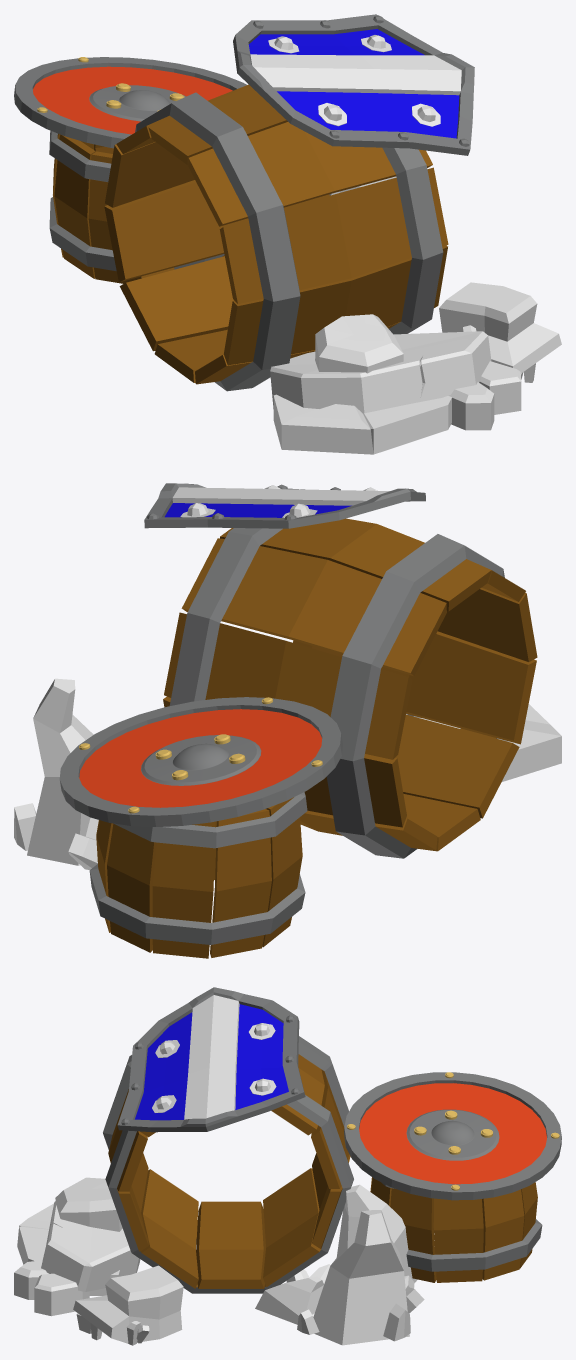
The model's file is GoblinHouse1.fbx.
3 renders of one model, top to bottom at view 1: azimuth 30°, elevation 25°; view 2: azimuth 150°, elevation 25°; view 3: azimuth 270°, elevation 25°, orthographic. The views are drawn at different scales.
Visible parts, largest first — view 1: House, Rock Type1 01 mesh, shield3.001, shield.001, House.001, Rock Type6 02 mesh; view 2: House, shield.001, House.001, shield3.001, Rock Type3 02 mesh, Rock Type1 01 mesh; view 3: House, shield.001, shield3.001, Rock Type3 02 mesh, Rock Type1 01 mesh, House.001, Rock Type6 02 mesh.
Part boxes in pixels (box(x1,y1,x2,y2)): House: box(104, 84, 448, 391); Rock Type1 01 mesh: box(270, 314, 521, 454); shield3.001: box(233, 14, 474, 155); shield.001: box(14, 57, 246, 148); House.001: box(49, 130, 224, 283); Rock Type6 02 mesh: box(439, 282, 561, 382); House: box(163, 518, 537, 858); shield.001: box(59, 697, 342, 826); House.001: box(89, 792, 307, 958); shield3.001: box(144, 483, 425, 528); Rock Type3 02 mesh: box(14, 678, 157, 870); Rock Type1 01 mesh: box(406, 704, 561, 781); House: box(103, 1036, 353, 1293); shield.001: box(344, 1072, 561, 1200); shield3.001: box(117, 987, 305, 1132); Rock Type3 02 mesh: box(255, 1184, 424, 1345); Rock Type1 01 mesh: box(14, 1177, 140, 1316); House.001: box(370, 1177, 542, 1282); Rock Type6 02 mesh: box(73, 1265, 183, 1345).
Size of the model in its own units: 1263 by 1187 by 2221.
